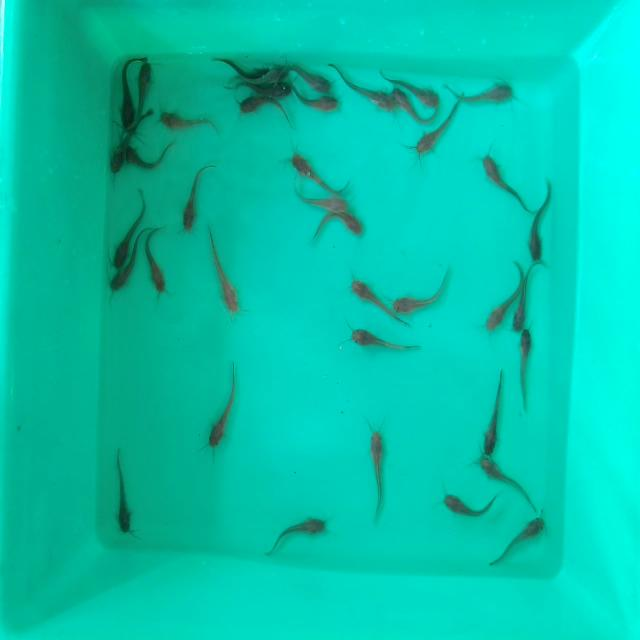lele: (478, 140, 527, 212), (394, 266, 456, 316), (478, 455, 540, 501), (208, 228, 241, 314), (494, 515, 548, 563), (210, 363, 238, 452), (347, 323, 420, 357), (528, 178, 556, 264), (343, 60, 390, 111), (479, 374, 508, 455), (303, 211, 366, 248), (519, 326, 543, 414), (512, 260, 542, 330), (280, 149, 343, 181), (268, 512, 327, 546), (286, 181, 350, 211), (111, 452, 134, 532), (453, 78, 515, 106), (443, 489, 499, 519), (368, 425, 385, 521), (349, 278, 393, 314), (293, 58, 337, 94), (484, 279, 514, 330), (144, 231, 169, 291), (158, 108, 219, 132), (126, 141, 180, 168), (182, 168, 204, 234), (414, 124, 455, 157), (407, 74, 442, 112), (214, 50, 261, 77), (118, 57, 135, 127), (112, 209, 132, 266), (297, 95, 340, 120), (110, 125, 130, 178), (238, 100, 284, 123), (138, 53, 154, 119), (389, 89, 417, 122), (235, 81, 292, 95), (109, 262, 136, 290), (260, 61, 291, 80)
